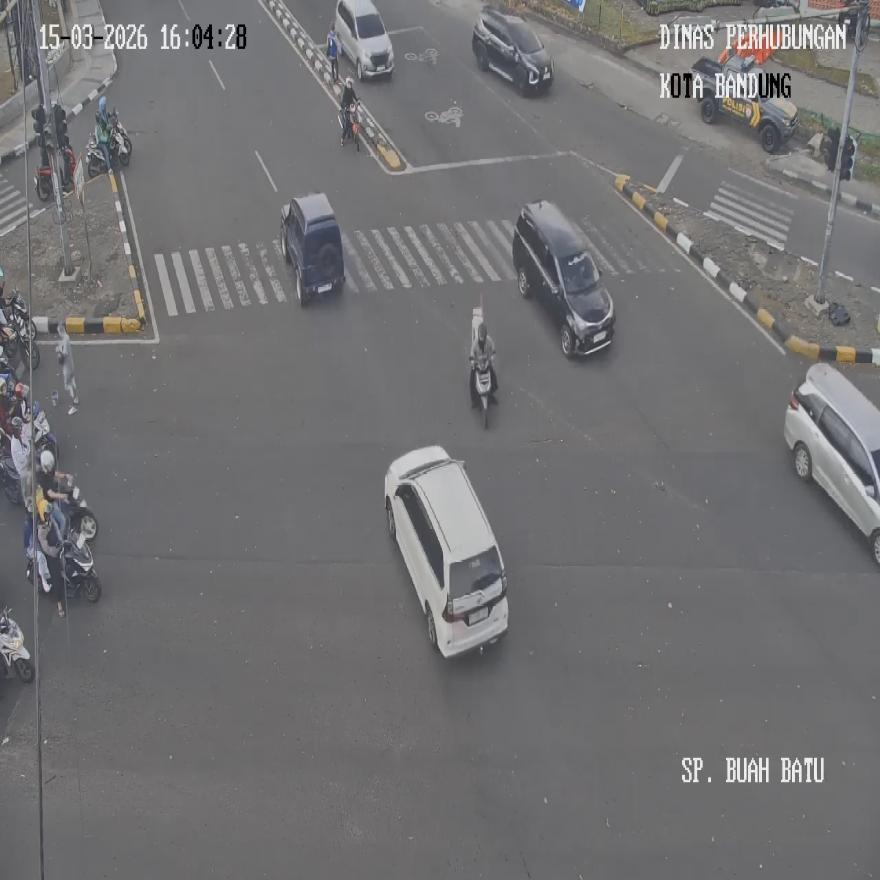Motor: (384, 445, 509, 656), (782, 363, 880, 566), (512, 198, 614, 356), (690, 48, 798, 152), (472, 2, 552, 96), (281, 190, 345, 306), (335, 0, 393, 82)
Truk: (26, 498, 101, 608), (1, 405, 53, 507), (469, 309, 496, 427), (0, 292, 38, 375), (86, 111, 132, 176), (34, 138, 77, 202), (0, 605, 33, 681), (340, 100, 361, 152)
